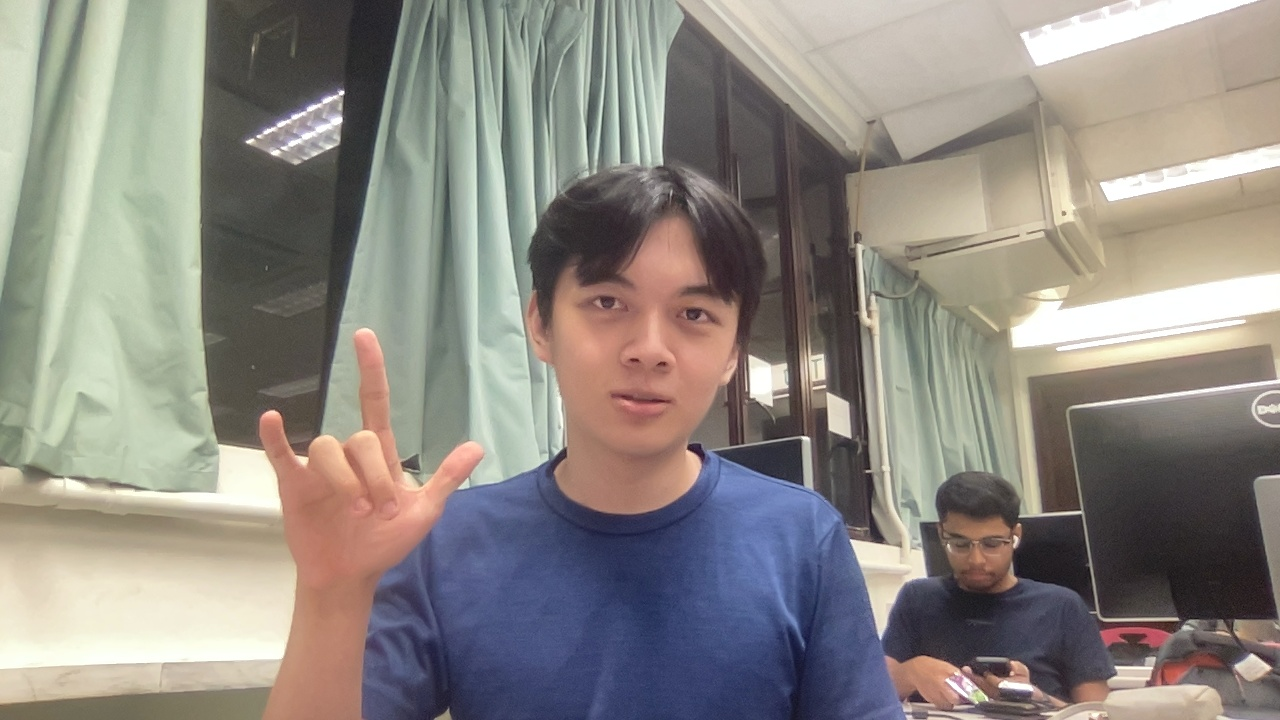iloveyou: (205, 331, 512, 596)
